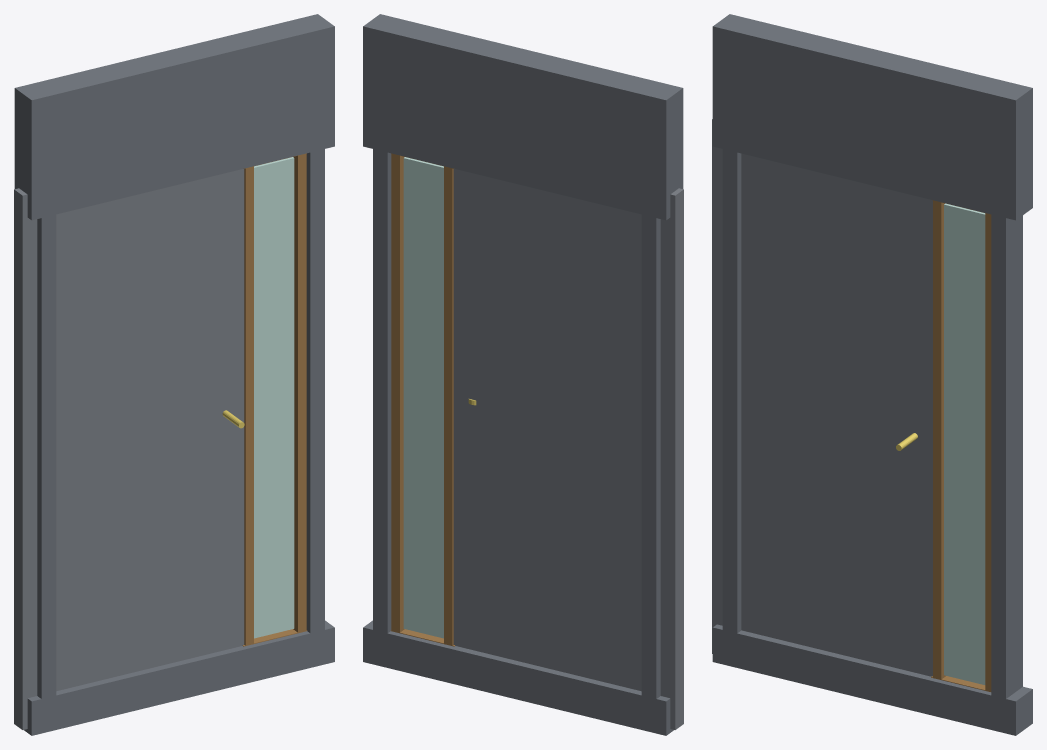
The model's file is puerta.fbx.
The picture shows the model from 3 angles, left to right: view 1: azimuth 30°, elevation 25°; view 2: azimuth 150°, elevation 25°; view 3: azimuth 330°, elevation 25°; orthographic projection.
Visible parts, largest first — view 1: Puerta_Aula_L201; view 2: Puerta_Aula_L201; view 3: Puerta_Aula_L201.
Part boxes in pixels (x1=…): Puerta_Aula_L201: x1=14, y1=14, x2=334, y2=735; Puerta_Aula_L201: x1=363, y1=14, x2=683, y2=735; Puerta_Aula_L201: x1=712, y1=14, x2=1032, y2=735.
Size of the model in its own units: 1.26 by 2.49 by 0.205.
